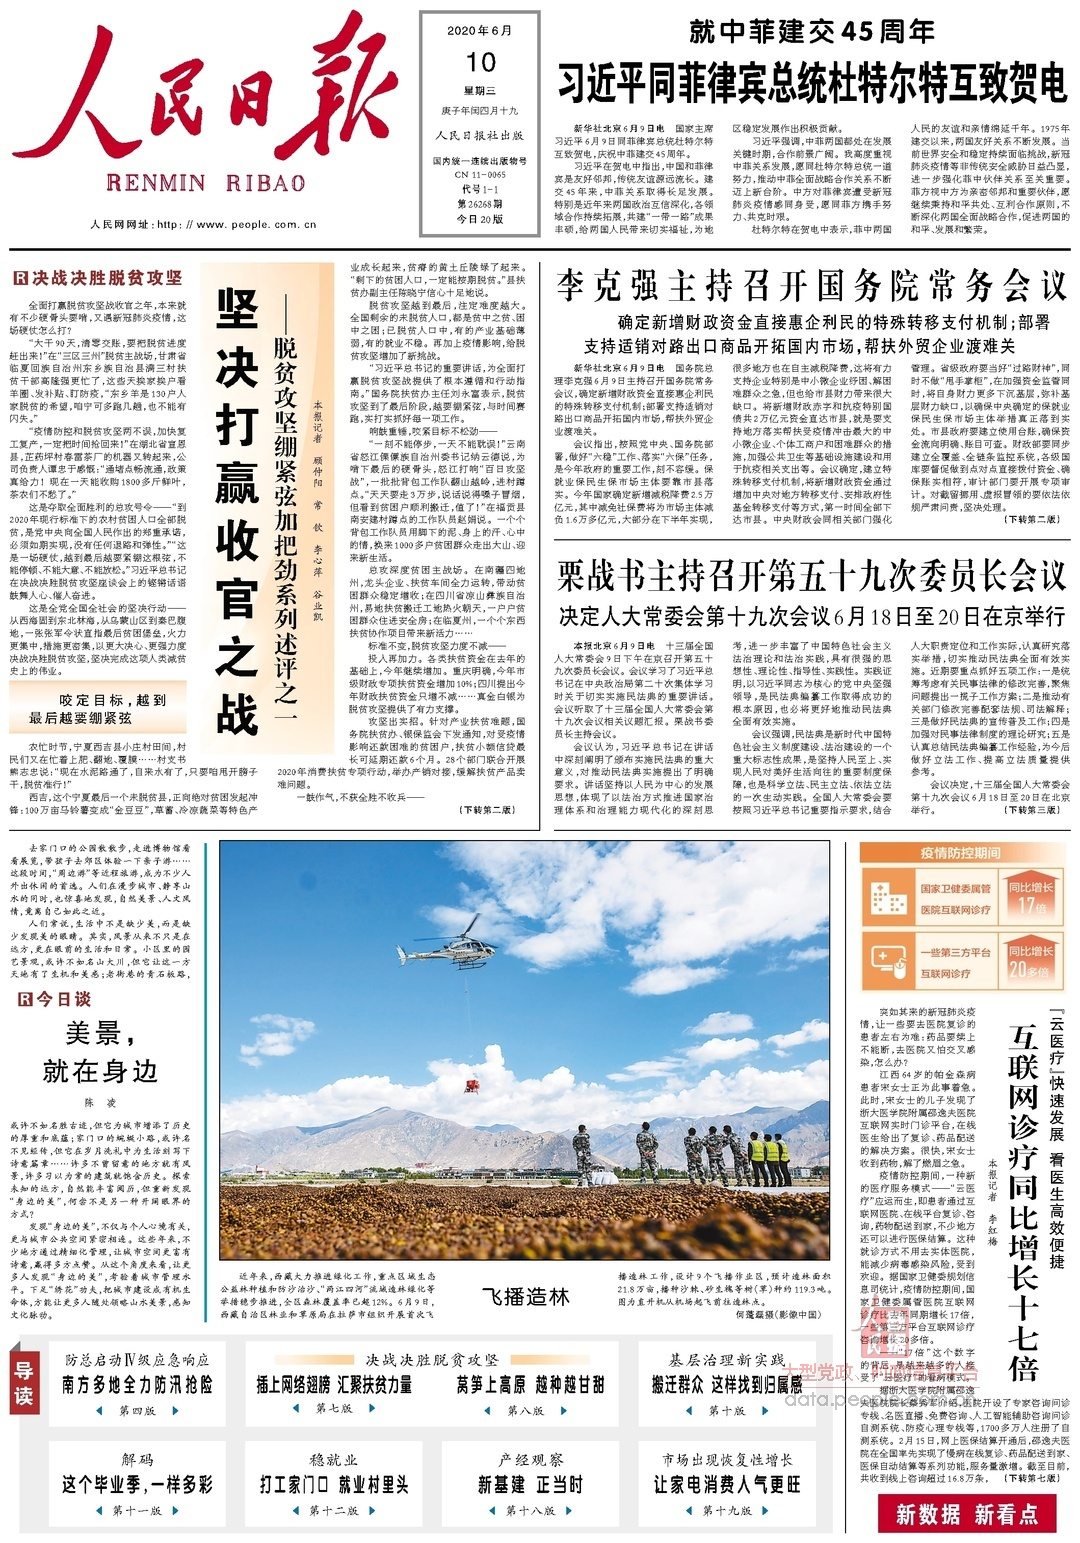pic: (215, 836, 835, 1264)
